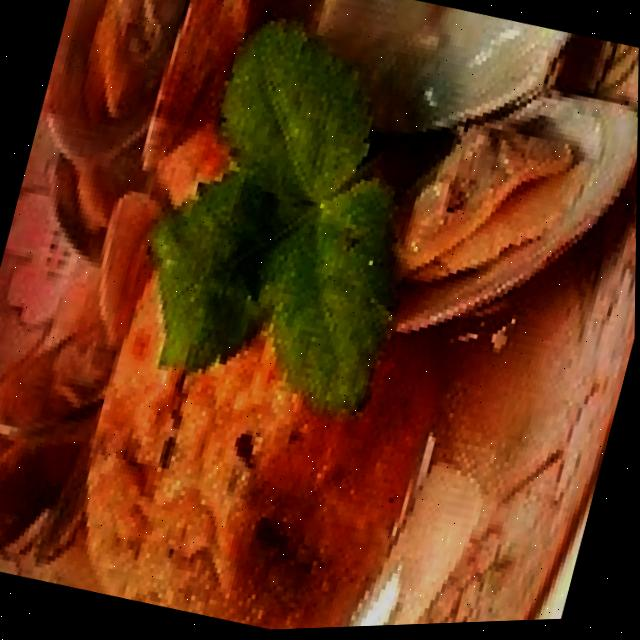熟制海鲜: (4, 134, 482, 640)
